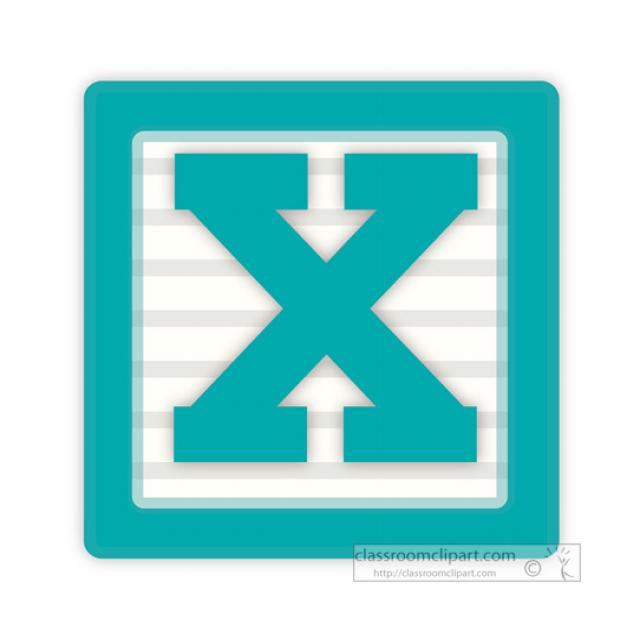X: (150, 142, 502, 494)
